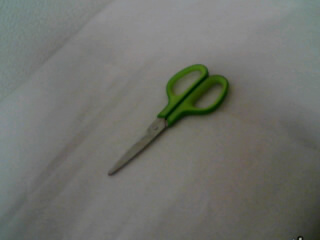003_classes: (94, 59, 235, 177)
